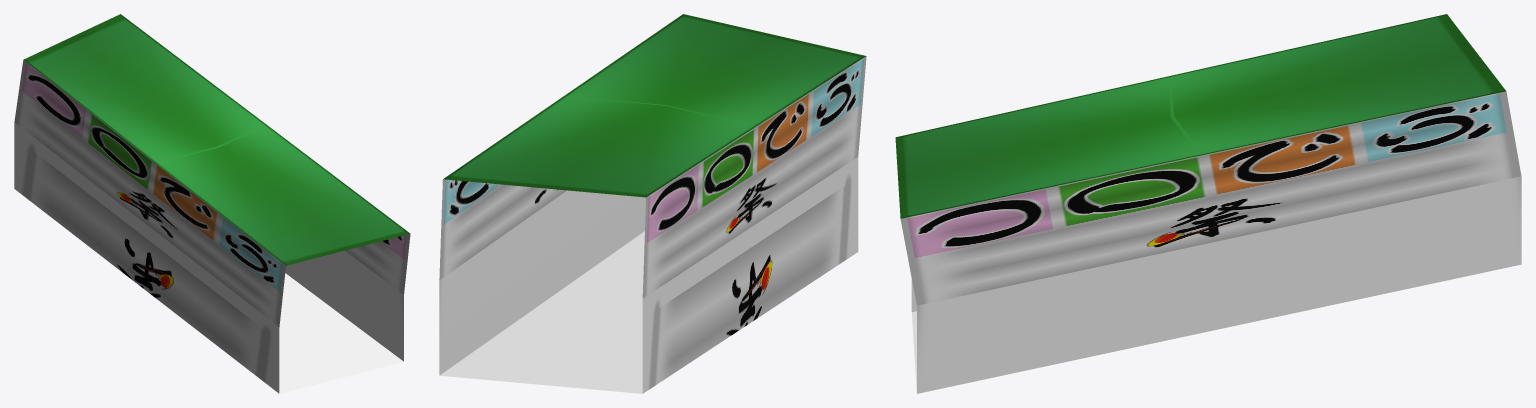
File: CourseAki_Wall_L_6_20.fbx
3 renders of one model, left to right at view 1: azimuth 30°, elevation 25°; view 2: azimuth 150°, elevation 25°; view 3: azimuth 270°, elevation 25°, orthographic. The views are drawn at different scales.
Parts seen in each view (by area): view 1: polySurface392; view 2: polySurface392; view 3: polySurface392.
Boxes of the visible parts, left/top/right/bottom form: polySurface392: left=14, top=14, right=410, bottom=393; polySurface392: left=439, top=14, right=866, bottom=393; polySurface392: left=895, top=14, right=1521, bottom=393.
Bounding box in the file's own units: 2.88 × 2.99 × 6.43.
1 material, 1 textured.
